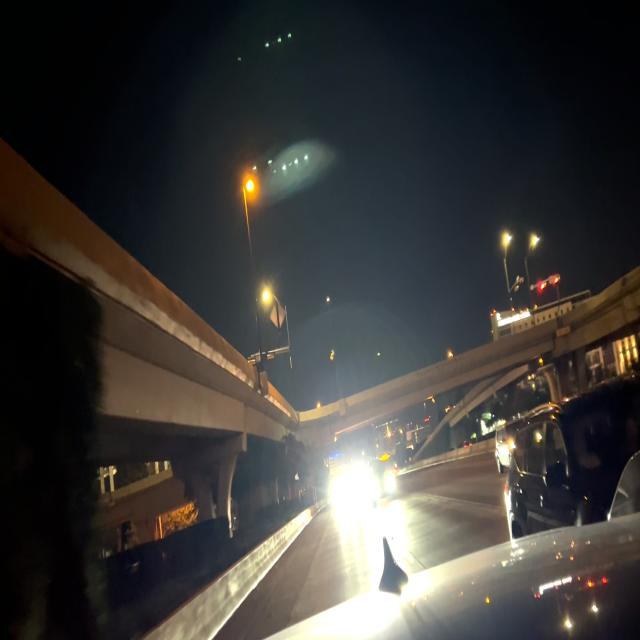back-of-sign: (270, 302, 286, 330)
